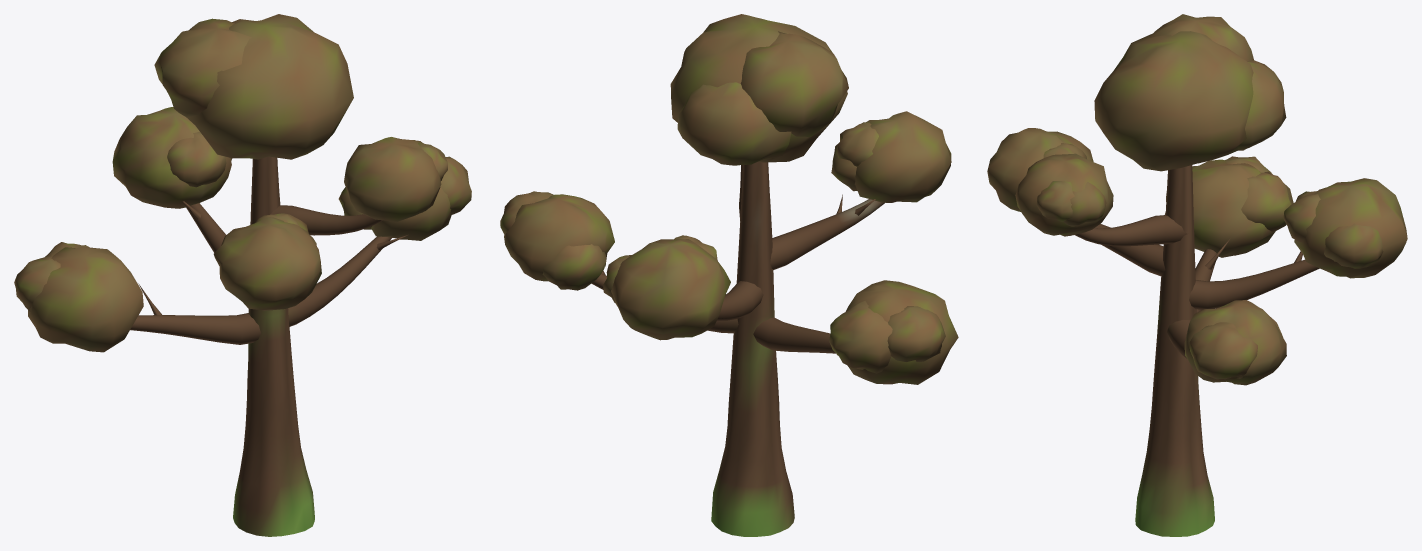
Rendered from Night_RoostTree.fbx.
The picture shows the model from 3 angles, left to right: view 1: azimuth 30°, elevation 25°; view 2: azimuth 150°, elevation 25°; view 3: azimuth 270°, elevation 25°; orthographic projection. The views are drawn at different scales.
Parts seen in each view (by area): view 1: Night_RoostTree; view 2: Night_RoostTree; view 3: Night_RoostTree.
Part boxes in pixels (left/top/right/bottom): Night_RoostTree: left=14, top=14, right=471, bottom=536; Night_RoostTree: left=500, top=14, right=958, bottom=536; Night_RoostTree: left=987, top=14, right=1407, bottom=536.
Size of the model in its own units: 35.55 by 38.06 by 30.32.
